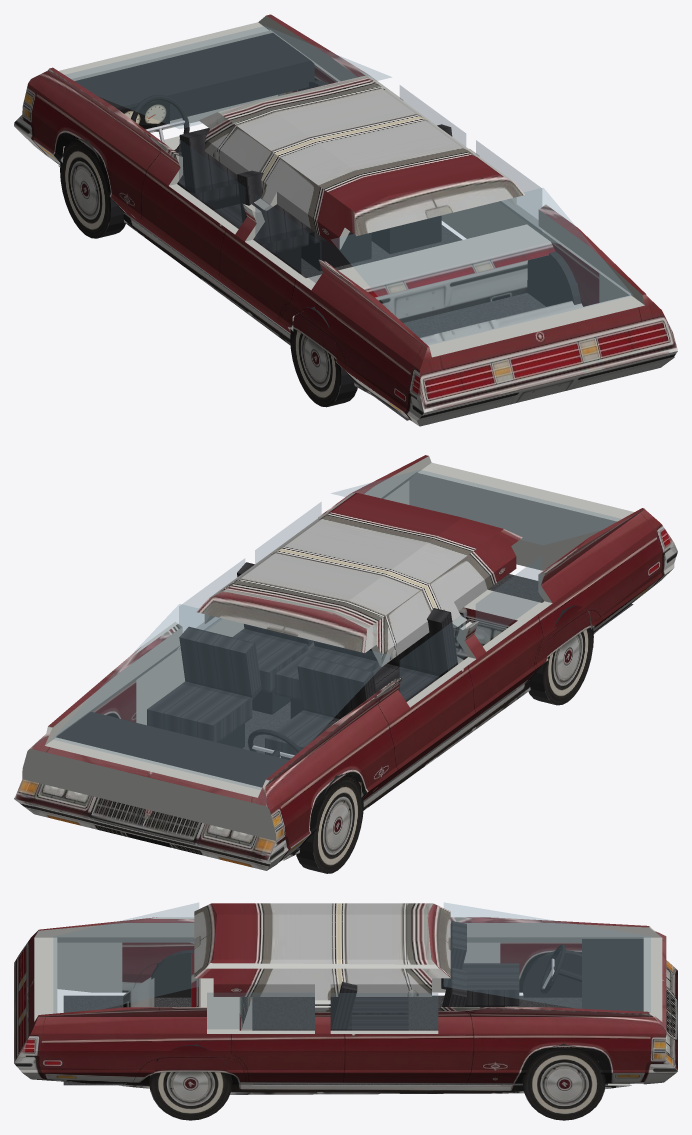
File: luxury_sedan.glb
The picture shows the model from 3 angles, top to bottom: view 1: azimuth 30°, elevation 25°; view 2: azimuth 150°, elevation 25°; view 3: azimuth 270°, elevation 25°; orthographic projection. The views are drawn at different scales.
Parts seen in each view (by area): view 1: luxury_sedan, luxury_sedan_cabin, wheel_BL, wheel_FL, wheel_BR; view 2: luxury_sedan, luxury_sedan_cabin, wheel_FL, wheel_BL; view 3: luxury_sedan, luxury_sedan_cabin, wheel_BR, wheel_FR, wheel_FL, wheel_BL.
Part boxes in pixels (x1,y1,x2,y2): luxury_sedan: [14, 14, 677, 426]; luxury_sedan_cabin: [65, 26, 632, 420]; wheel_BL: [290, 307, 357, 407]; wheel_FL: [60, 139, 125, 238]; wheel_BR: [527, 251, 581, 306]; luxury_sedan: [14, 455, 677, 870]; luxury_sedan_cabin: [52, 470, 633, 849]; wheel_FL: [296, 774, 363, 873]; wheel_BL: [528, 605, 593, 705]; luxury_sedan: [14, 903, 677, 1094]; luxury_sedan_cabin: [53, 902, 650, 1085]; wheel_BR: [149, 1044, 232, 1120]; wheel_FR: [522, 1043, 605, 1120]; wheel_FL: [522, 950, 581, 997]; wheel_BL: [151, 950, 192, 997].
Bounding box in the file's own units: 1.85 × 1.2 × 5.1.
11 materials, 4 textured.
